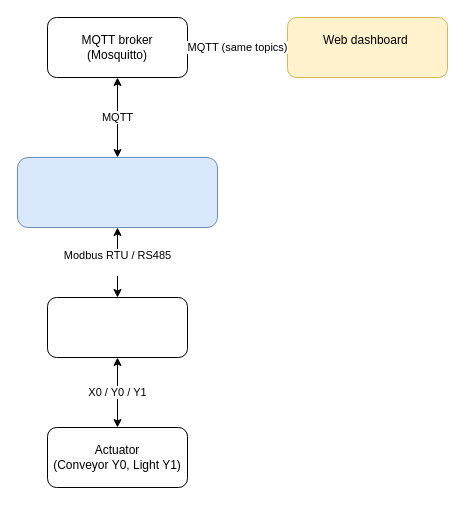
Image size: 465x505. Some labels were removed from this diagram. Here are the shapes that lost their labels. From the top down, the box of each, then its label:
(16, 156, 218, 228): ESP32 Gateway
(46, 296, 188, 358): PLC Xinje XD2-16T-E Modbus Slave
